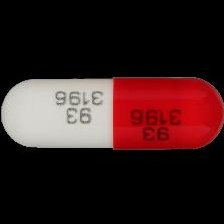0093-3196: (0, 0, 224, 224)
